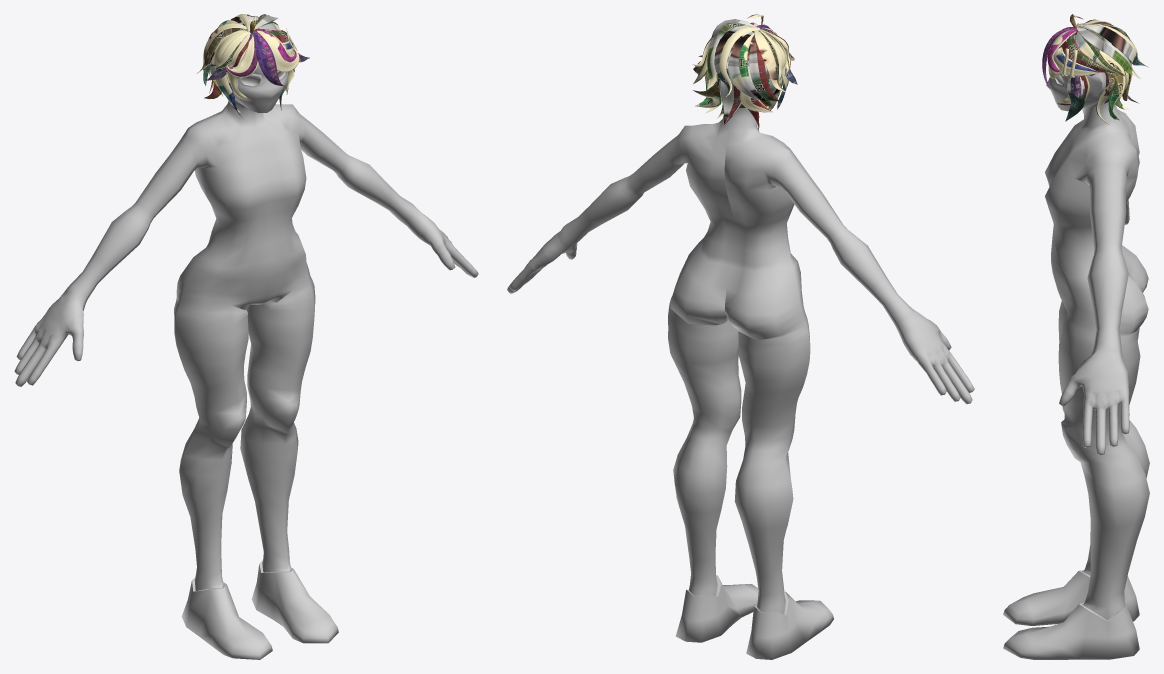
File: MeinGott.obj
3 views of the same model, side by side, from view 1: azimuth 30°, elevation 25°; view 2: azimuth 150°, elevation 25°; view 3: azimuth 270°, elevation 25° (orthographic).
Visible parts, largest first — view 1: prueba, Hayr_4x4UV.003; view 2: prueba, Hayr_4x4UV.003; view 3: prueba, Hayr_4x4UV.003.
Boxes of the visible parts, bbox=[...] form: prueba: bbox=[14, 27, 478, 659]; Hayr_4x4UV.003: bbox=[197, 14, 309, 119]; prueba: bbox=[507, 32, 974, 659]; Hayr_4x4UV.003: bbox=[692, 14, 797, 129]; prueba: bbox=[1003, 23, 1149, 659]; Hayr_4x4UV.003: bbox=[1042, 14, 1148, 125].
Bounding box in the file's own units: 7.15 × 9.04 × 1.96.
